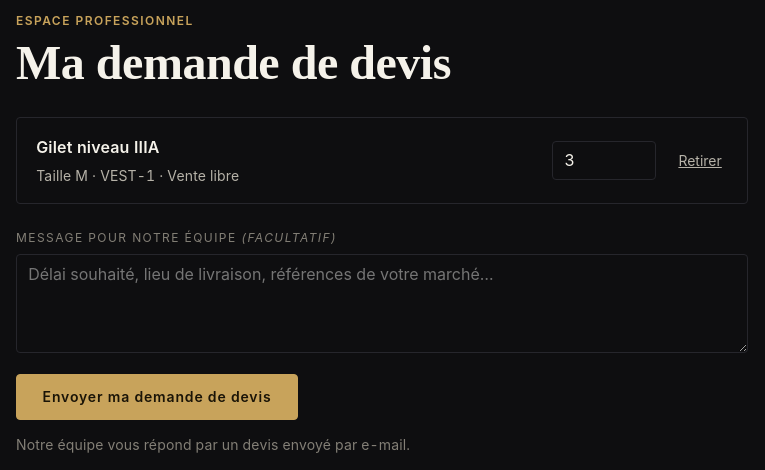
it: pro/demande (story 12.8c) › changes a quantity and removes a line
The image size is (765, 470).
Replace the text in the number field named "qty-l1" with "8" at [604, 160], box [552, 140, 656, 180]
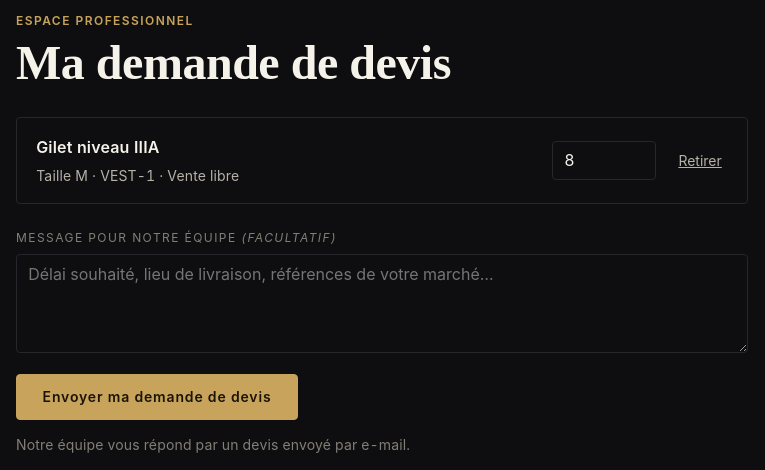
Click the button "Retirer" at [700, 160], box [672, 151, 728, 170]
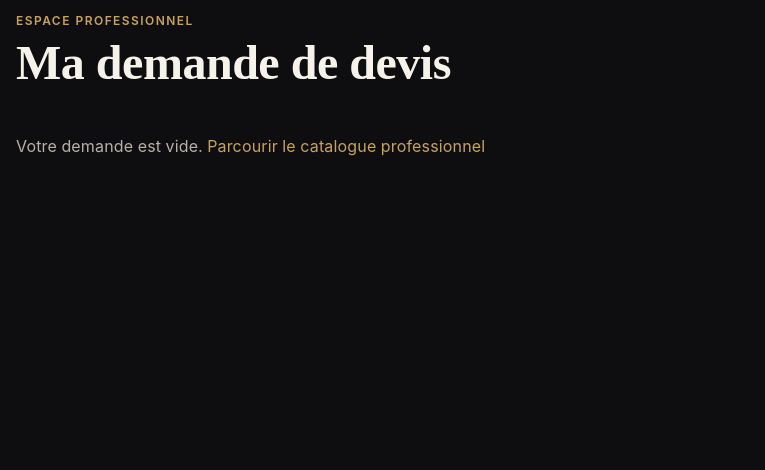
Expected: the text "Votre demande est vide" is shown, [16, 136, 207, 156]
